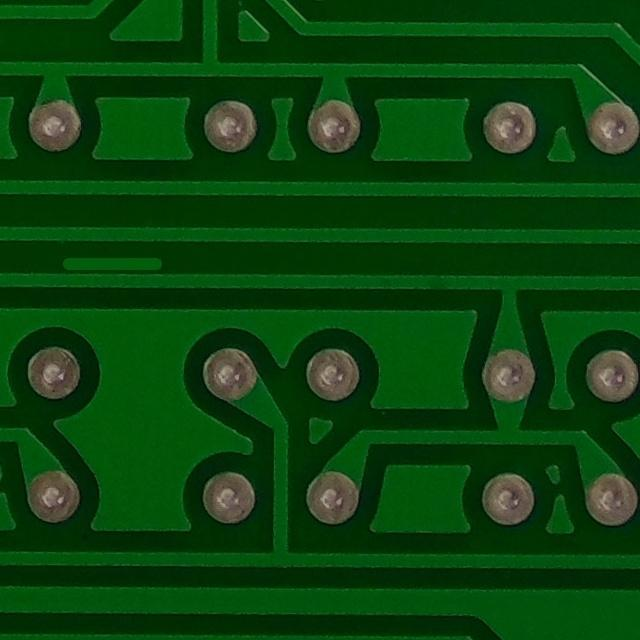spurious_copper: (46, 239, 171, 288)
